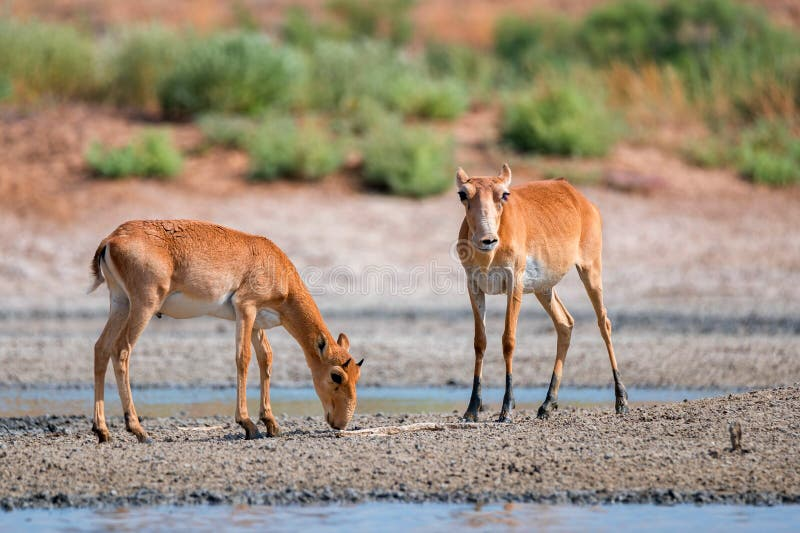saiga: (73, 216, 361, 460), (447, 162, 633, 427)
